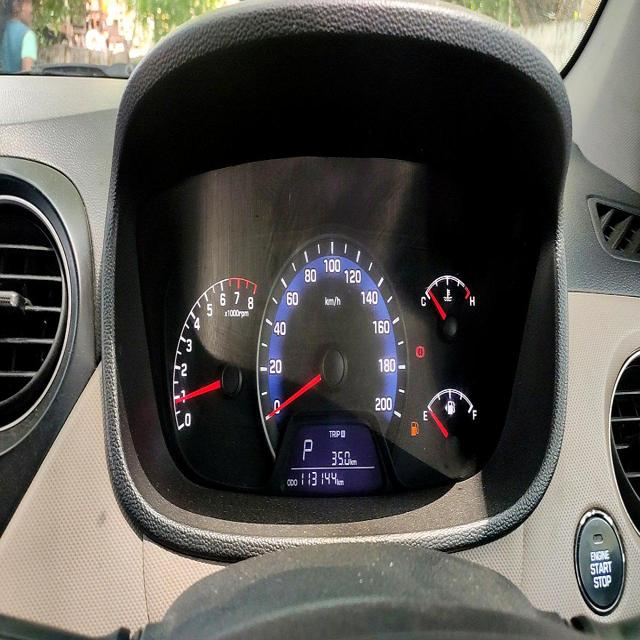odometer: (301, 469, 338, 488)
